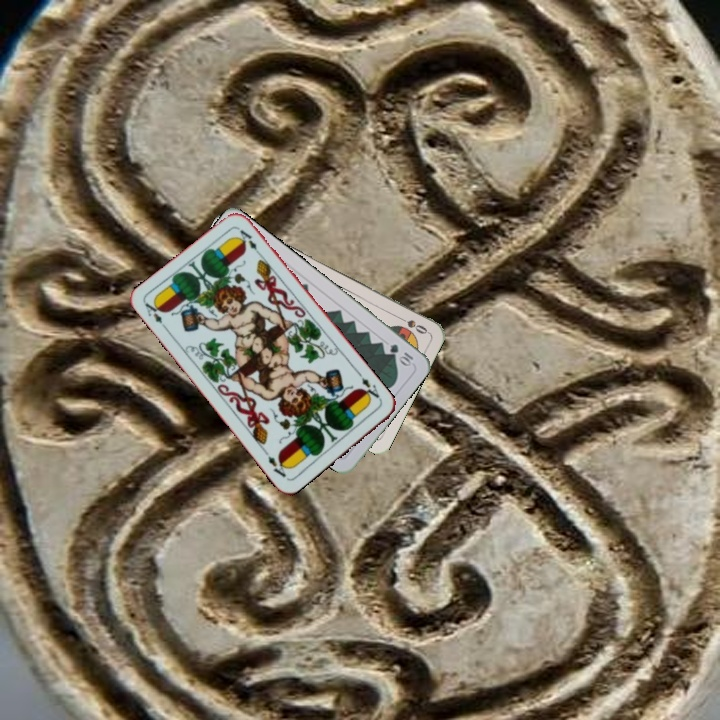EA: (141, 297, 171, 333), (357, 373, 384, 404)
G10: (386, 340, 416, 369)
SO: (393, 311, 431, 337)
